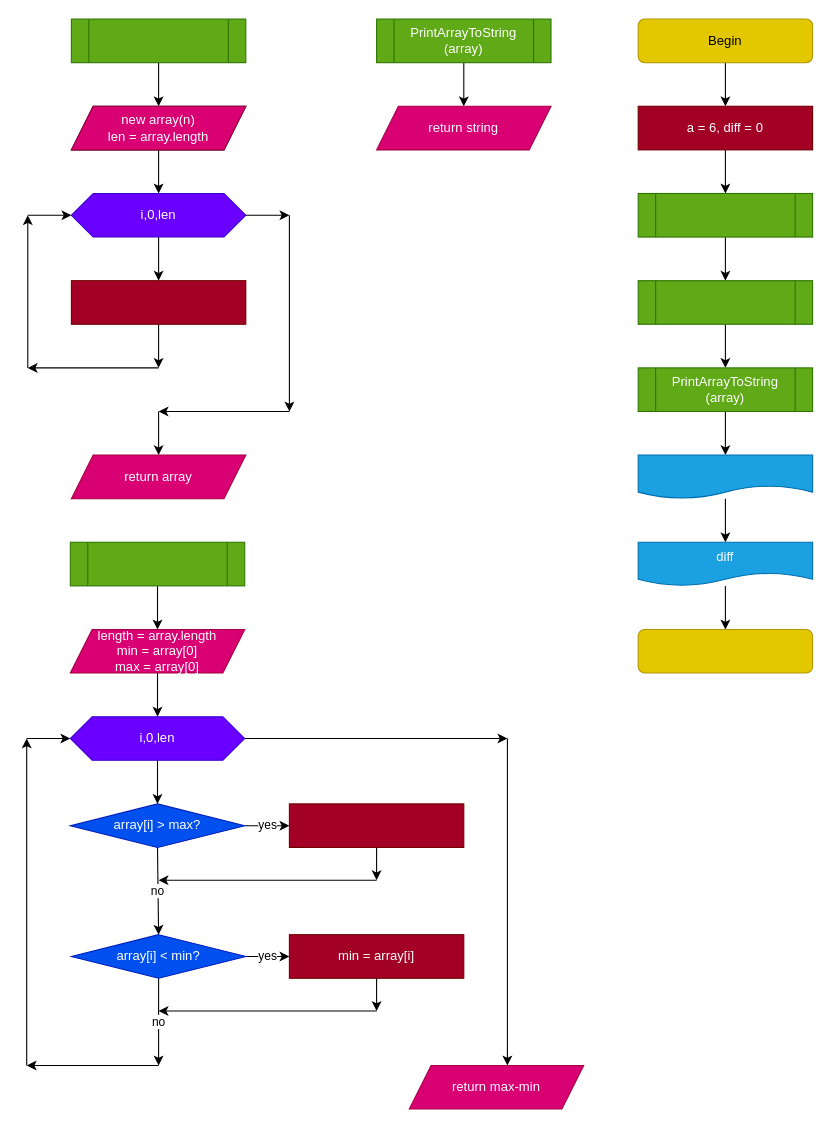
This 832x1128 diagram has some shape labels left out. Here are the shapes that lost their labels. From the top down, the centre of each, then its label:
At point (158, 40): "CreateAndFillArray (n)".
At point (725, 214): "array = CreateAndFillArray (n)".
At point (158, 302): "array[i] = Random(0,99)".
At point (725, 302): "diff = CountEvenArray(array)".
At point (725, 476): "array".
At point (157, 563): "CalcMaxMinDiff(array)".
At point (725, 650): "End".
At point (376, 825): "max = array[i]".
